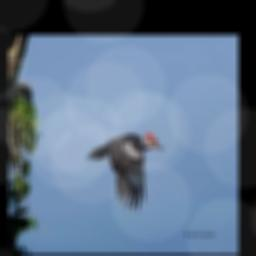Woodpecker: (84, 131, 163, 211)
